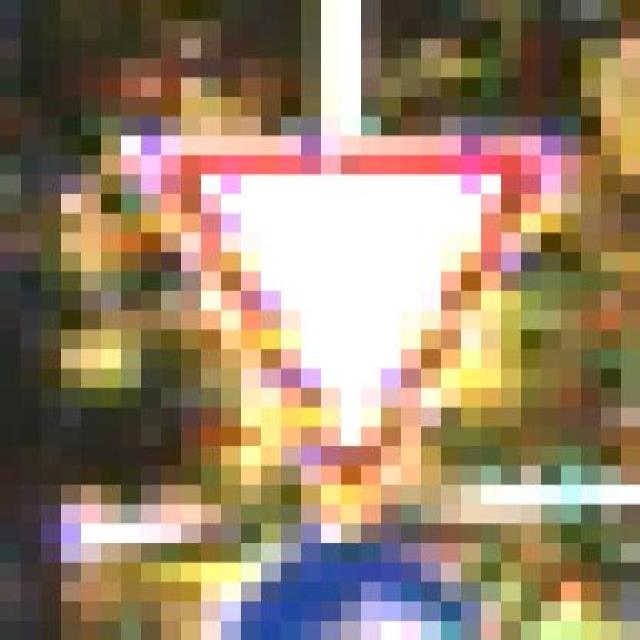Give Way: (140, 97, 560, 485)
